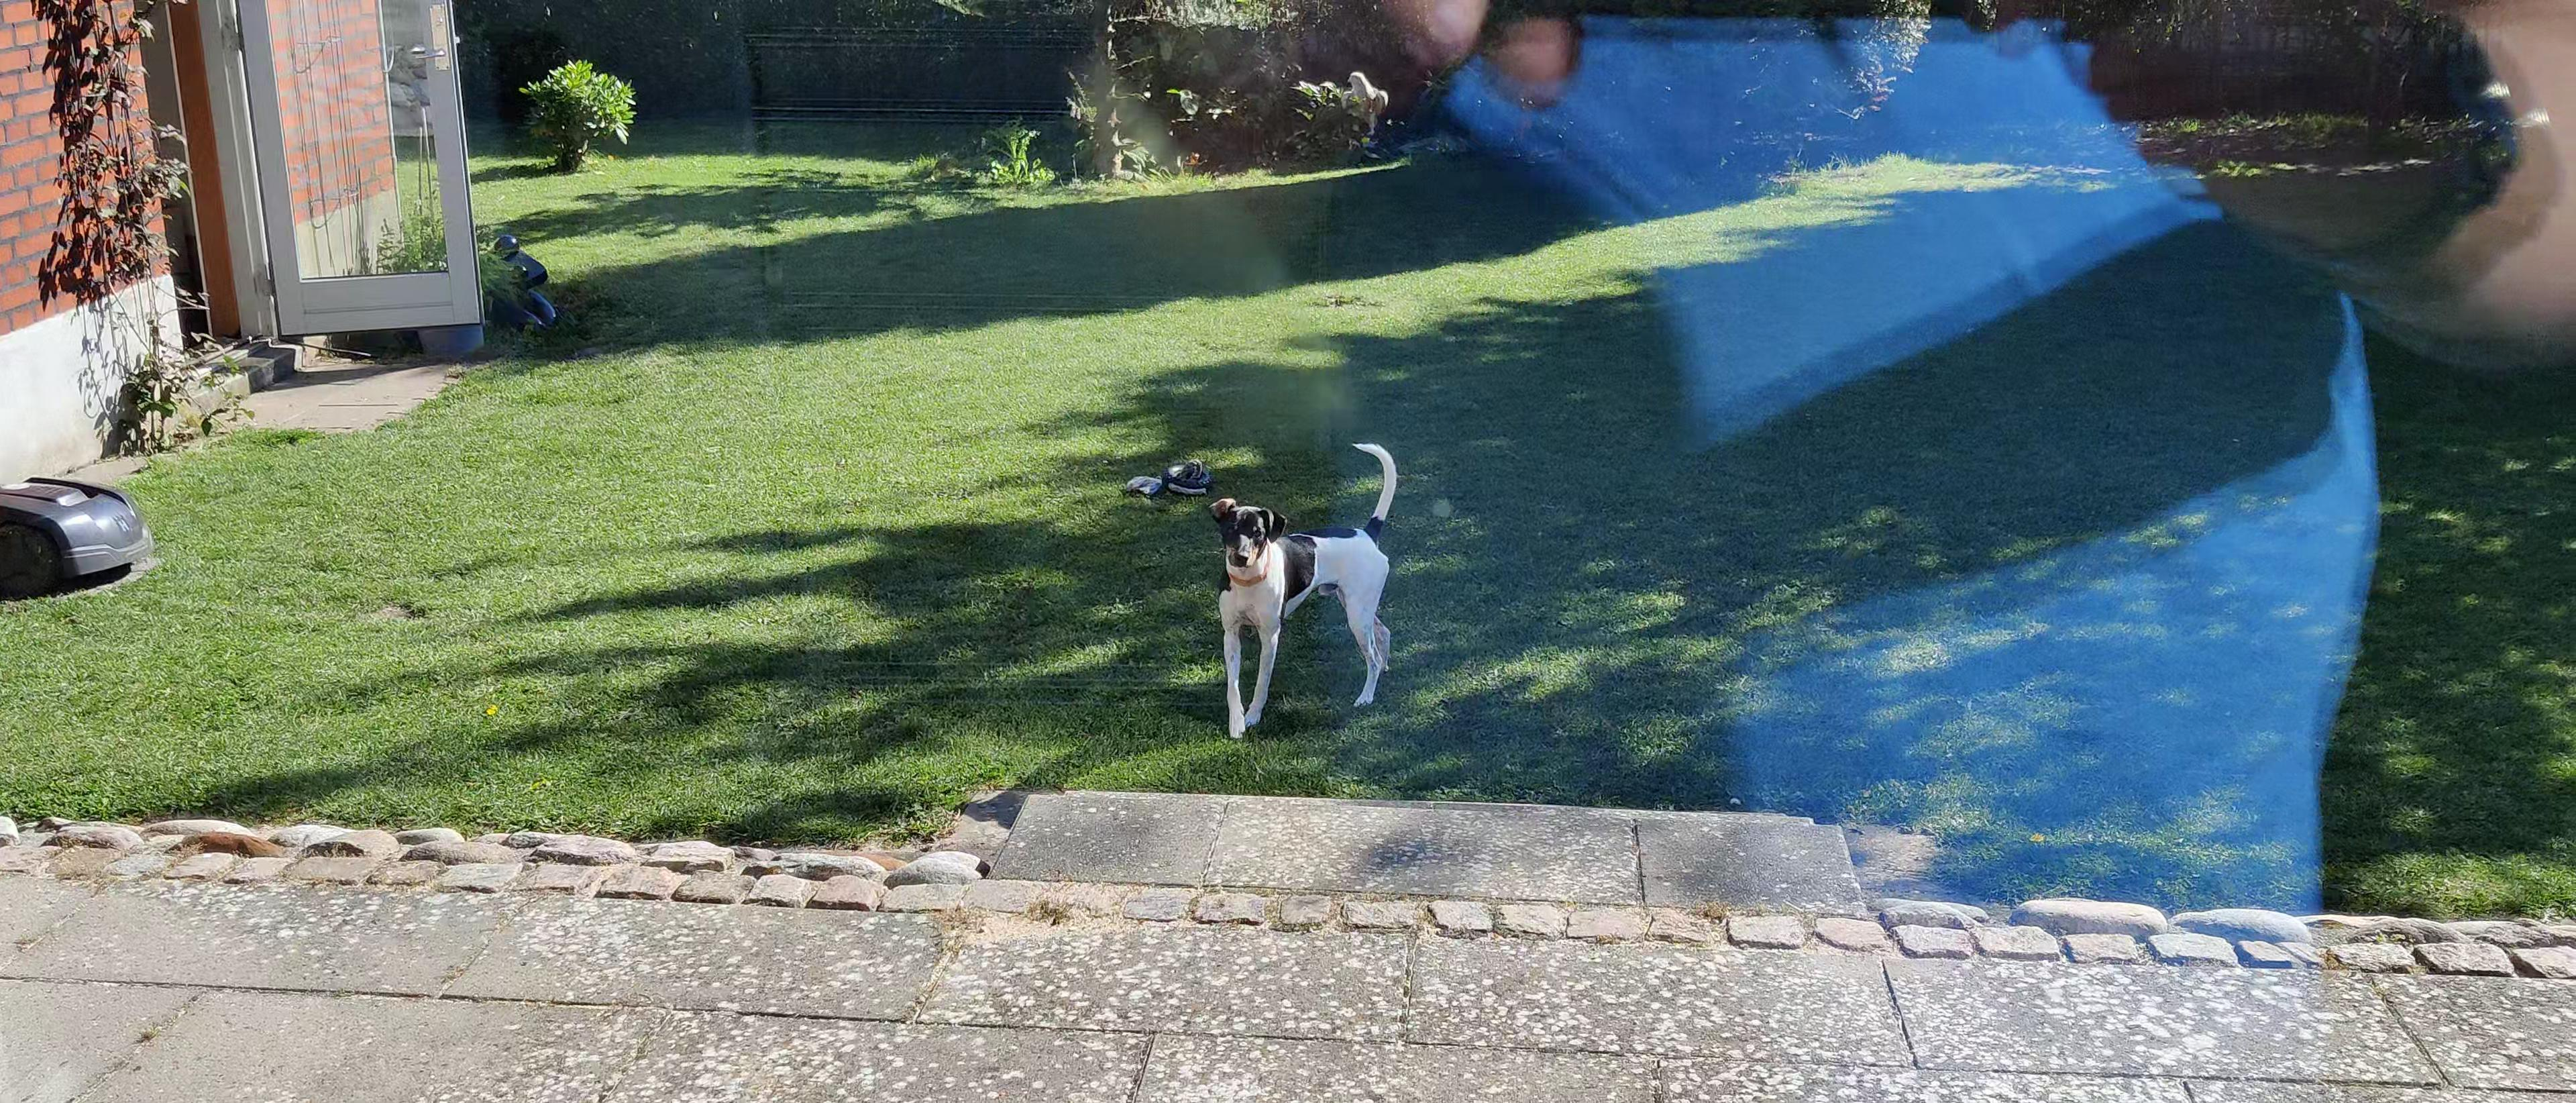Dog: (1189, 439, 1423, 738)
